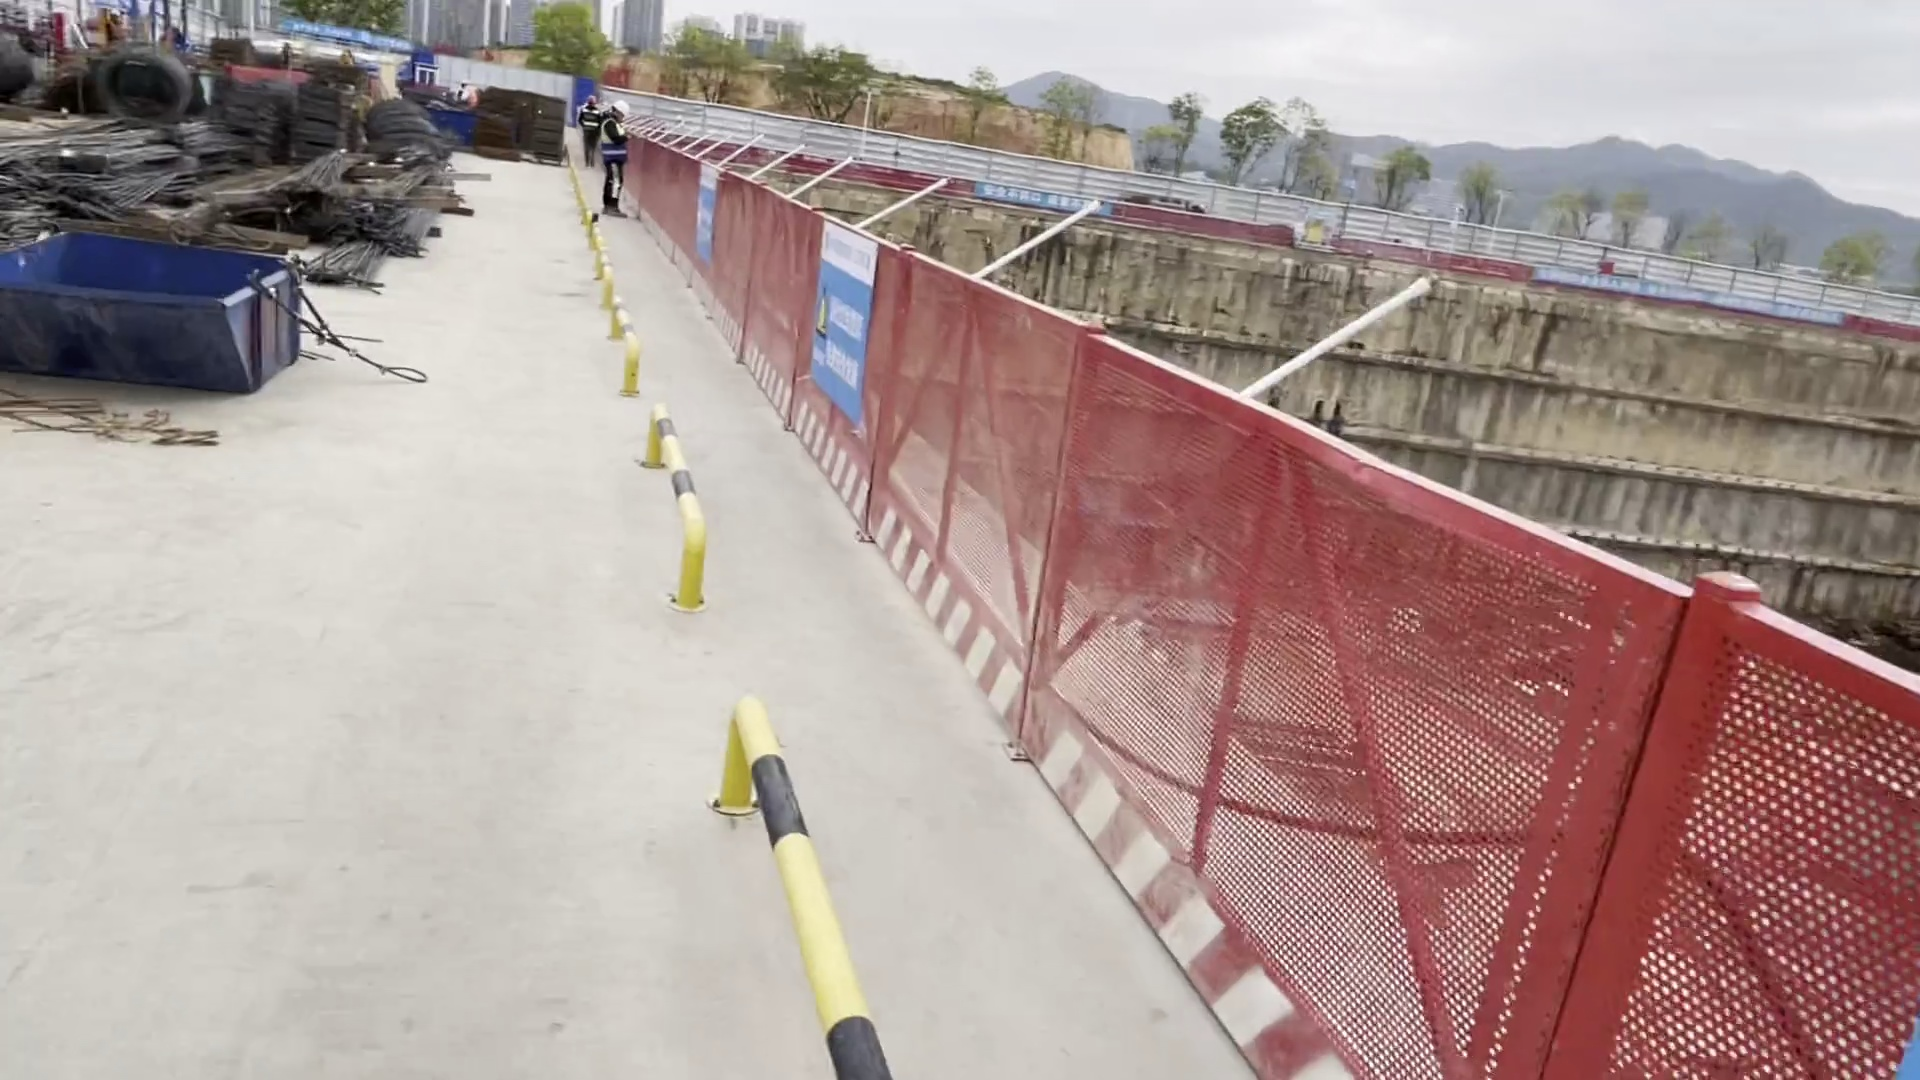fence: (751, 269, 1920, 1054), (1149, 227, 1517, 255)
helmet: (611, 98, 630, 114), (586, 93, 600, 106)
hopper: (1, 233, 309, 392)
person: (598, 96, 648, 229), (573, 81, 600, 166)
slogan: (799, 239, 886, 431), (974, 184, 1130, 221)
vest: (599, 121, 627, 163), (581, 106, 600, 138)
